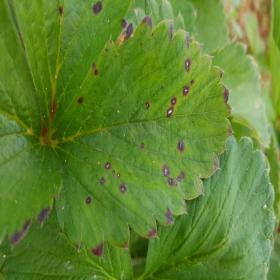Leaf Spot: (50, 14, 235, 259), (11, 0, 134, 136)
